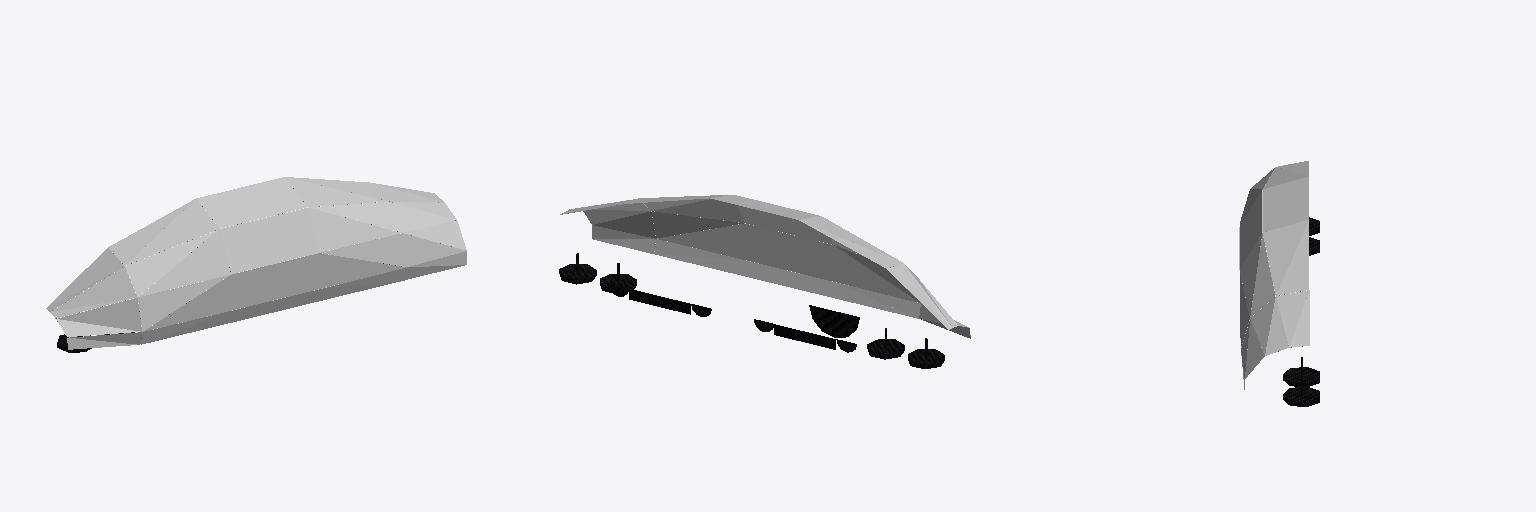
3 views of the same model, side by side, from view 1: azimuth 30°, elevation 25°; view 2: azimuth 150°, elevation 25°; view 3: azimuth 270°, elevation 25° (orthographic).
Parts seen in each view (by area): view 1: polySurface1675, polySurface1672, polySurface1669, polySurface1670, polySurface1667; view 2: polySurface1675, polySurface1669, polySurface1672, polySurface1667, pCylinder2, polySurface1670, pCube1, pCylinder3; view 3: polySurface1669, polySurface1667, polySurface1675, pCylinder2, polySurface1672.
Part boxes in pixels (x1,y1,x2,y2): polySurface1675: (196,177,318,322); polySurface1672: (108,199,230,344); polySurface1669: (285,177,406,301); polySurface1670: (46,248,141,349); polySurface1667: (374,183,466,279); polySurface1675: (710,195,832,296); polySurface1669: (624,195,744,275); polySurface1672: (799,216,920,318); polySurface1667: (560,199,655,253); pCylinder2: (559,264,944,368); polySurface1670: (887,263,970,338); pCube1: (629,289,835,349); pCylinder3: (809,305,859,337); polySurface1669: (1240,220,1308,347); polySurface1667: (1241,290,1309,389); polySurface1675: (1239,177,1308,269); pCylinder2: (1283,217,1319,406); polySurface1672: (1240,161,1308,224).
Size of the model in its own units: 9.12 by 2.58 by 1.64.
Materials: 1 (1 with a texture image).